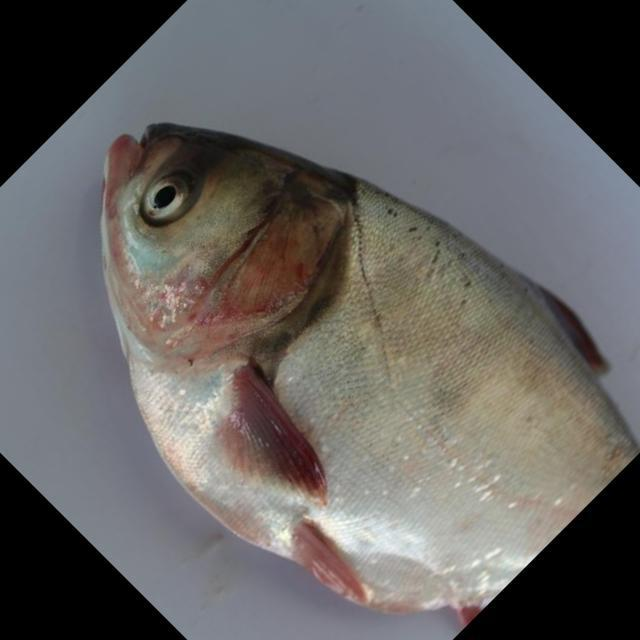SilverCarp: (68, 115, 640, 612)
